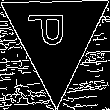P_E: (33, 18, 78, 56)
